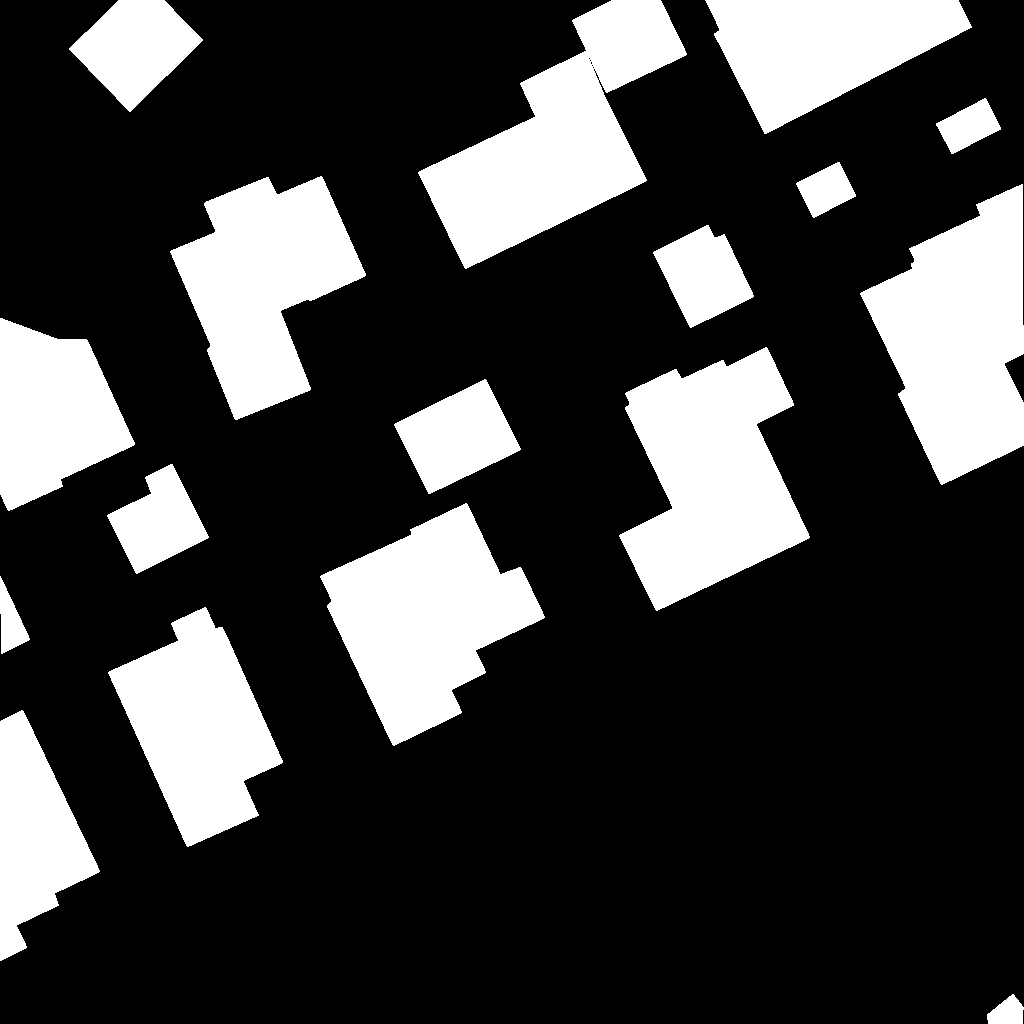building: (320, 503, 546, 747), (619, 347, 811, 612), (418, 51, 648, 270), (860, 184, 1024, 486), (170, 176, 367, 421), (108, 607, 284, 848), (705, 0, 973, 135), (0, 318, 136, 512), (0, 710, 101, 962), (69, 0, 204, 113), (394, 379, 522, 495), (107, 464, 210, 575), (572, 0, 688, 94), (653, 225, 755, 329), (936, 98, 1002, 155), (796, 162, 857, 219), (0, 575, 31, 655), (987, 994, 1024, 1024)
